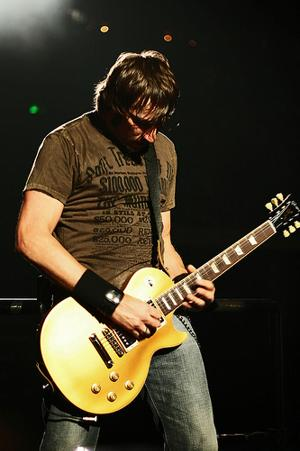person: (15, 50, 219, 450)
